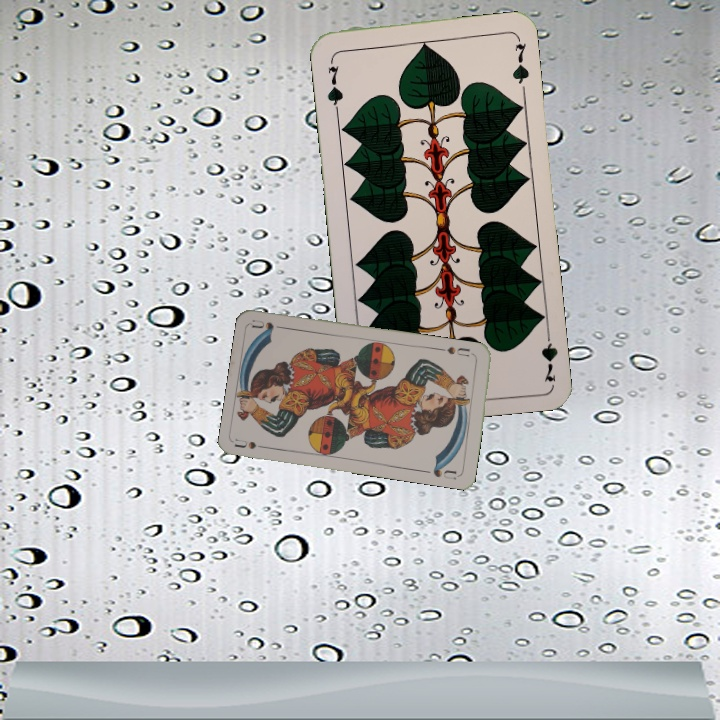G7: (323, 54, 346, 113), (538, 324, 560, 384)
SU: (232, 435, 273, 452), (443, 342, 477, 361)
